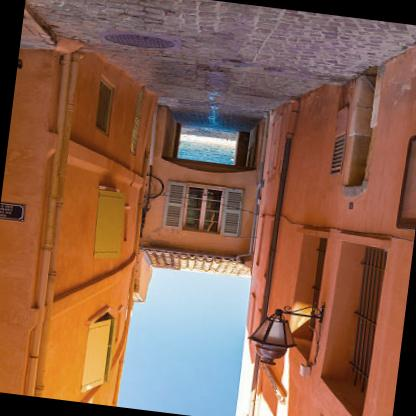manholes: (70, 5, 200, 80)
